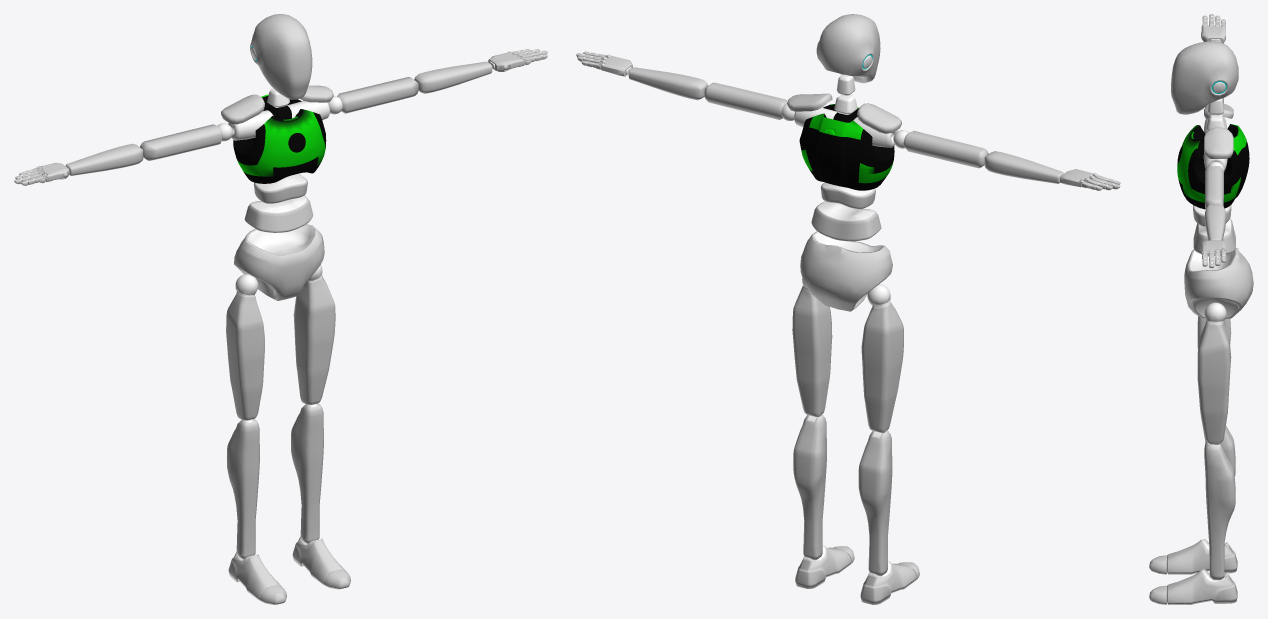
File: PN3Robot.fbx
The picture shows the model from 3 angles, left to right: view 1: azimuth 30°, elevation 25°; view 2: azimuth 150°, elevation 25°; view 3: azimuth 270°, elevation 25°; orthographic projection. The views are drawn at different scales.
Parts seen in each view (by area): view 1: SM_Spine2, SM_Hips, SM_RightUpLeg, SM_LeftUpLeg, SM_Head, SM_RightLeg, SM_LeftLeg, SM_Spine, SM_RightArm, SM_LeftArm, SM_RightShoulder, SM_RightForeArm (+5 smaller); view 2: SM_Spine2, SM_Hips, SM_RightUpLeg, SM_LeftUpLeg, SM_RightLeg, SM_LeftLeg, SM_Head, SM_Spine, SM_RightArm, SM_LeftArm, SM_RightForeArm, SM_LeftForeArm (+5 smaller); view 3: SM_Head, SM_LeftUpLeg, SM_Hips, SM_Spine2, SM_LeftLeg, SM_LeftFoot, SM_RightFoot, SM_LeftShoulder, SM_LeftArm, SM_LeftForeArm, SM_Spine, SM_RightHand (+9 smaller).
Part boxes in pixels (bbox=[...]): SM_Spine2: bbox=[233, 94, 326, 183]; SM_Hips: bbox=[234, 224, 324, 300]; SM_RightUpLeg: bbox=[226, 274, 264, 420]; SM_LeftUpLeg: bbox=[293, 265, 335, 404]; SM_Head: bbox=[250, 14, 312, 99]; SM_RightLeg: bbox=[226, 419, 259, 559]; SM_LeftLeg: bbox=[291, 403, 323, 544]; SM_Spine: bbox=[244, 195, 313, 232]; SM_RightArm: bbox=[140, 123, 232, 160]; SM_LeftArm: bbox=[328, 77, 418, 114]; SM_RightShoulder: bbox=[221, 94, 273, 140]; SM_RightForeArm: bbox=[66, 143, 143, 175]; SM_Spine2: bbox=[799, 104, 894, 190]; SM_Hips: bbox=[800, 231, 892, 311]; SM_RightUpLeg: bbox=[861, 284, 903, 432]; SM_LeftUpLeg: bbox=[792, 278, 832, 417]; SM_RightLeg: bbox=[858, 430, 892, 576]; SM_LeftLeg: bbox=[793, 415, 826, 560]; SM_Head: bbox=[816, 14, 880, 83]; SM_Spine: bbox=[811, 201, 881, 241]; SM_RightArm: bbox=[893, 130, 988, 168]; SM_LeftArm: bbox=[704, 82, 794, 120]; SM_RightForeArm: bbox=[984, 151, 1063, 183]; SM_LeftForeArm: bbox=[628, 67, 708, 100]; SM_Head: bbox=[1171, 41, 1238, 114]; SM_LeftUpLeg: bbox=[1197, 302, 1231, 444]; SM_Hips: bbox=[1184, 248, 1253, 318]; SM_Spine2: bbox=[1177, 124, 1249, 209]; SM_LeftLeg: bbox=[1204, 442, 1235, 580]; SM_LeftFoot: bbox=[1167, 569, 1237, 604]; SM_RightFoot: bbox=[1167, 539, 1237, 574]; SM_LeftShoulder: bbox=[1203, 127, 1233, 170]; SM_LeftArm: bbox=[1205, 161, 1224, 209]; SM_LeftForeArm: bbox=[1205, 204, 1225, 240]; SM_Spine: bbox=[1193, 218, 1235, 254]; SM_RightHand: bbox=[1201, 23, 1225, 43].
Bounding box in the file's own units: 183 × 183 × 32.01.
